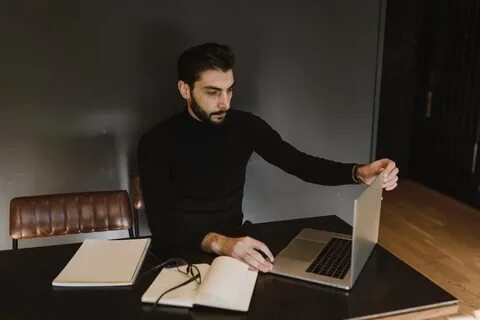awake: (136, 41, 277, 272)
